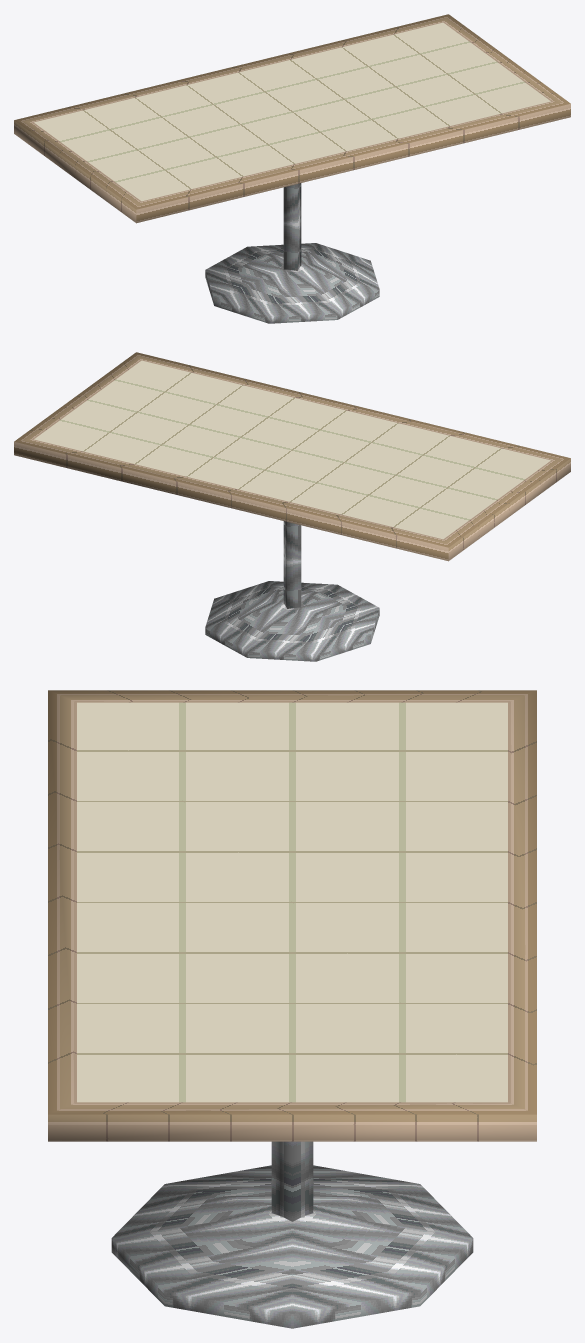
The model's file is 3334IMIG11_03.gltf.
The picture shows the model from 3 angles, top to bottom: view 1: azimuth 30°, elevation 25°; view 2: azimuth 150°, elevation 25°; view 3: azimuth 270°, elevation 25°; orthographic projection. The views are drawn at different scales.
Parts seen in each view (by area): view 1: 3334IMIG11_03; view 2: 3334IMIG11_03; view 3: 3334IMIG11_03.
Boxes of the visible parts, box(x1,y1,x2,y2) form: 3334IMIG11_03: box(14, 14, 570, 323); 3334IMIG11_03: box(14, 352, 570, 661); 3334IMIG11_03: box(48, 690, 536, 1328).
Size of the model in its own units: 1.95 by 0.75 by 0.9502.
3 materials, 3 textured.
